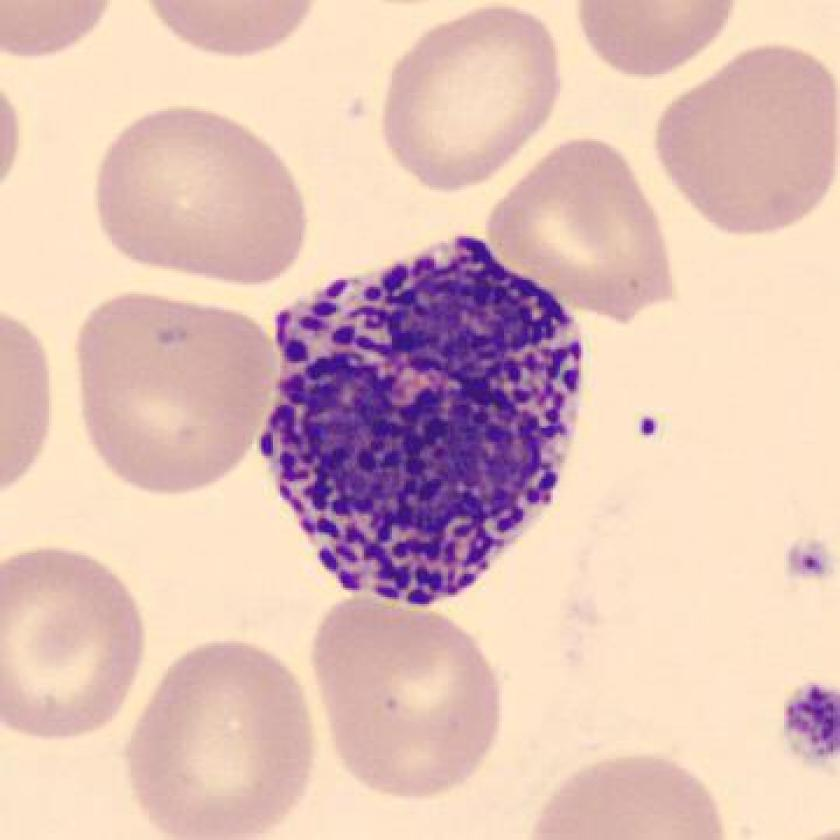basophil: (260, 233, 601, 617)
